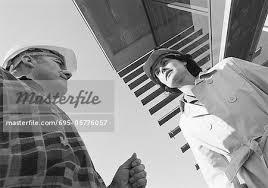Person_wearing_helmet: (2, 28, 80, 77)
